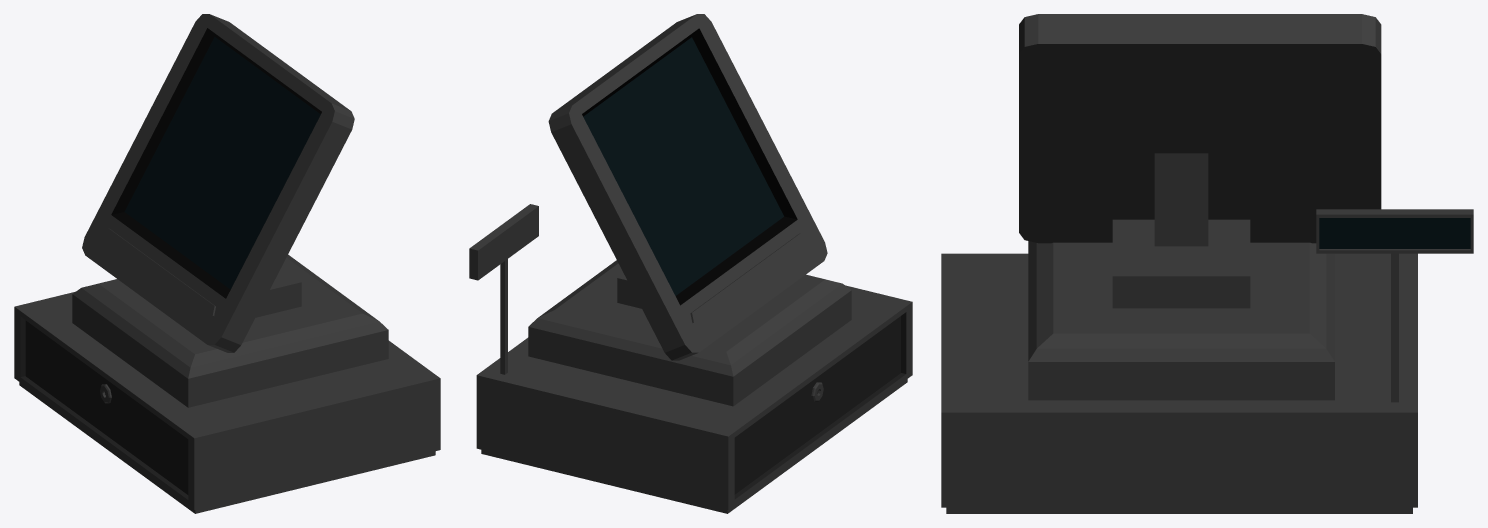
Rendered from Checkout_Till_02.glb.
The picture shows the model from 3 angles, left to right: view 1: azimuth 30°, elevation 25°; view 2: azimuth 150°, elevation 25°; view 3: azimuth 270°, elevation 25°; orthographic projection. The views are drawn at different scales.
Visible parts, largest first — view 1: Mesh_Checkout_Till_02; view 2: Mesh_Checkout_Till_02; view 3: Mesh_Checkout_Till_02.
Part boxes in pixels (x1,y1,x2,y2): Mesh_Checkout_Till_02: (14,14,440,513); Mesh_Checkout_Till_02: (469,14,912,513); Mesh_Checkout_Till_02: (941,14,1473,513).
Size of the model in its own units: 0.329 by 0.4388 by 0.4655.
Materials: 1 (1 with a texture image).
